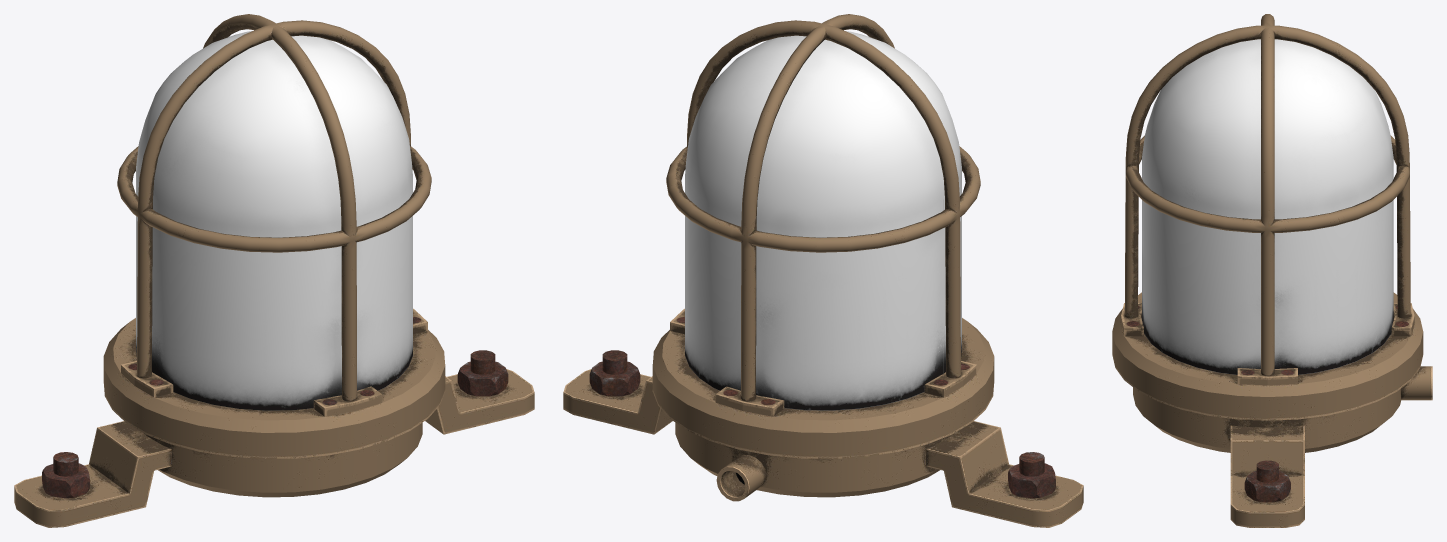
File: Light.obj
3 renders of one model, left to right at view 1: azimuth 30°, elevation 25°; view 2: azimuth 150°, elevation 25°; view 3: azimuth 270°, elevation 25°, orthographic. The views are drawn at different scales.
Parts seen in each view (by area): view 1: Light.Glass, Light; view 2: Light.Glass, Light; view 3: Light.Glass, Light.
Part boxes in pixels (x1,y1,x2,y2): Light.Glass: [136, 31, 412, 410]; Light: [14, 14, 534, 527]; Light.Glass: [685, 31, 961, 410]; Light: [563, 14, 1083, 527]; Light.Glass: [1142, 39, 1393, 374]; Light: [1112, 14, 1432, 527].
Size of the model in its own units: 0.3 by 0.249 by 0.1846.
Materials: 2 (2 with a texture image).
